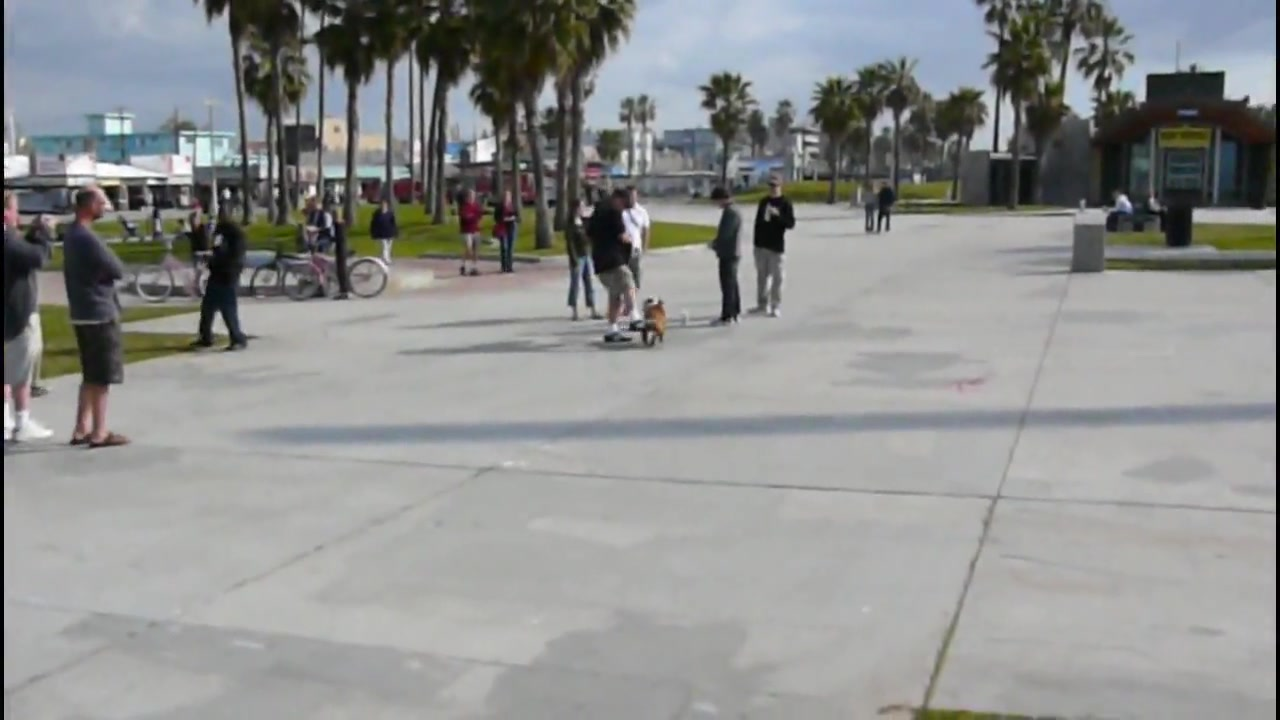dog: (643, 295, 669, 350)
